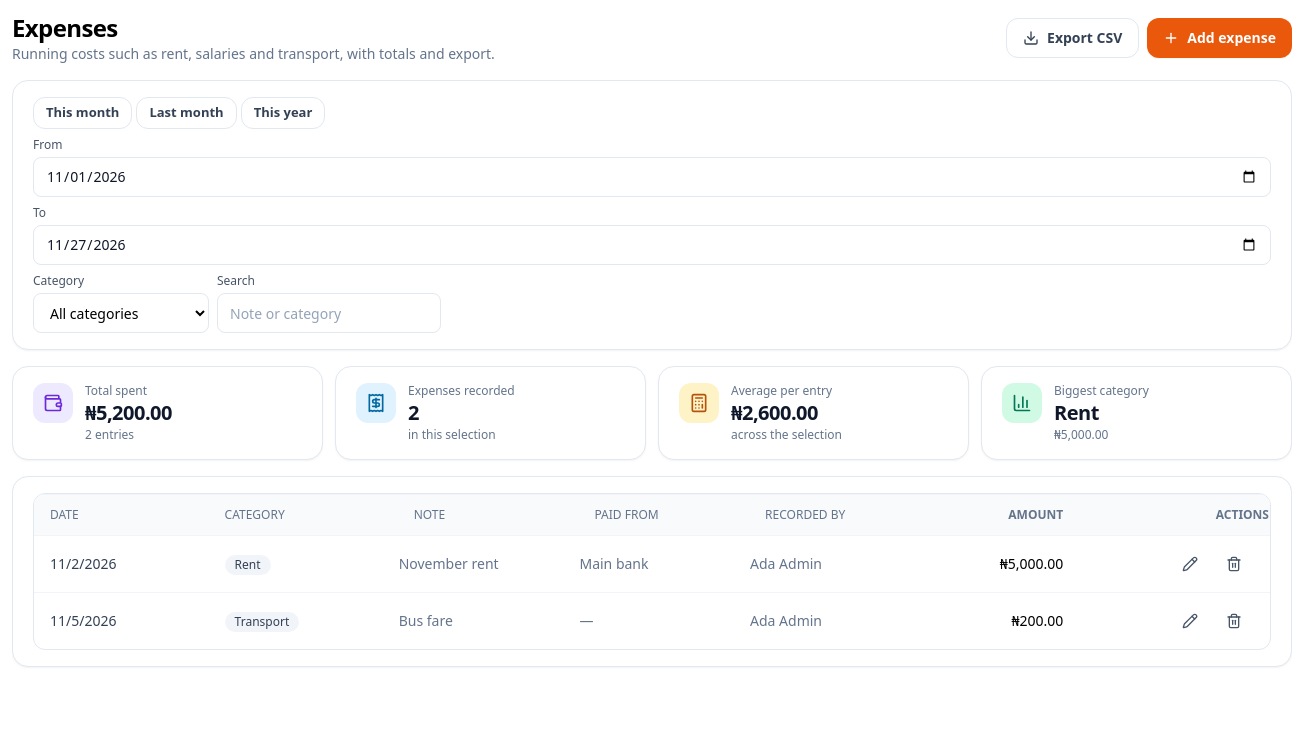
ExpensesPage › lists expenses with totals and filters by category
This screenshot has width=1304, height=732.
Expected: the text "November rent" is shown, [398, 536, 578, 592]
Expected: the text "Bus fare" is shown, [398, 592, 578, 649]
Select "Transport" in the dropdown named "Filter by category": x=121, y=313 [33, 293, 209, 333]
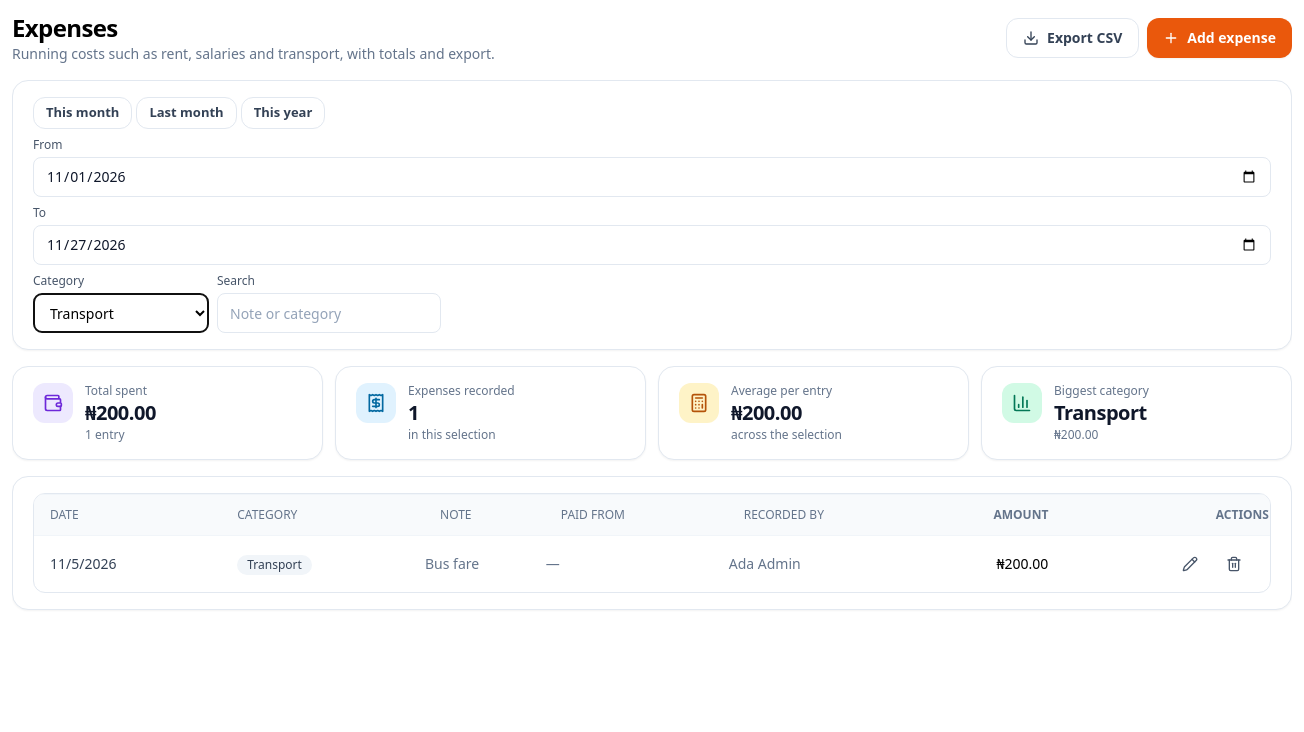
Expected: the text "Bus fare" is shown, [424, 536, 545, 592]
Now the text "November rent" is gone
Now the text "₦200.00" below "Total spent" is shown, box [85, 399, 156, 426]
